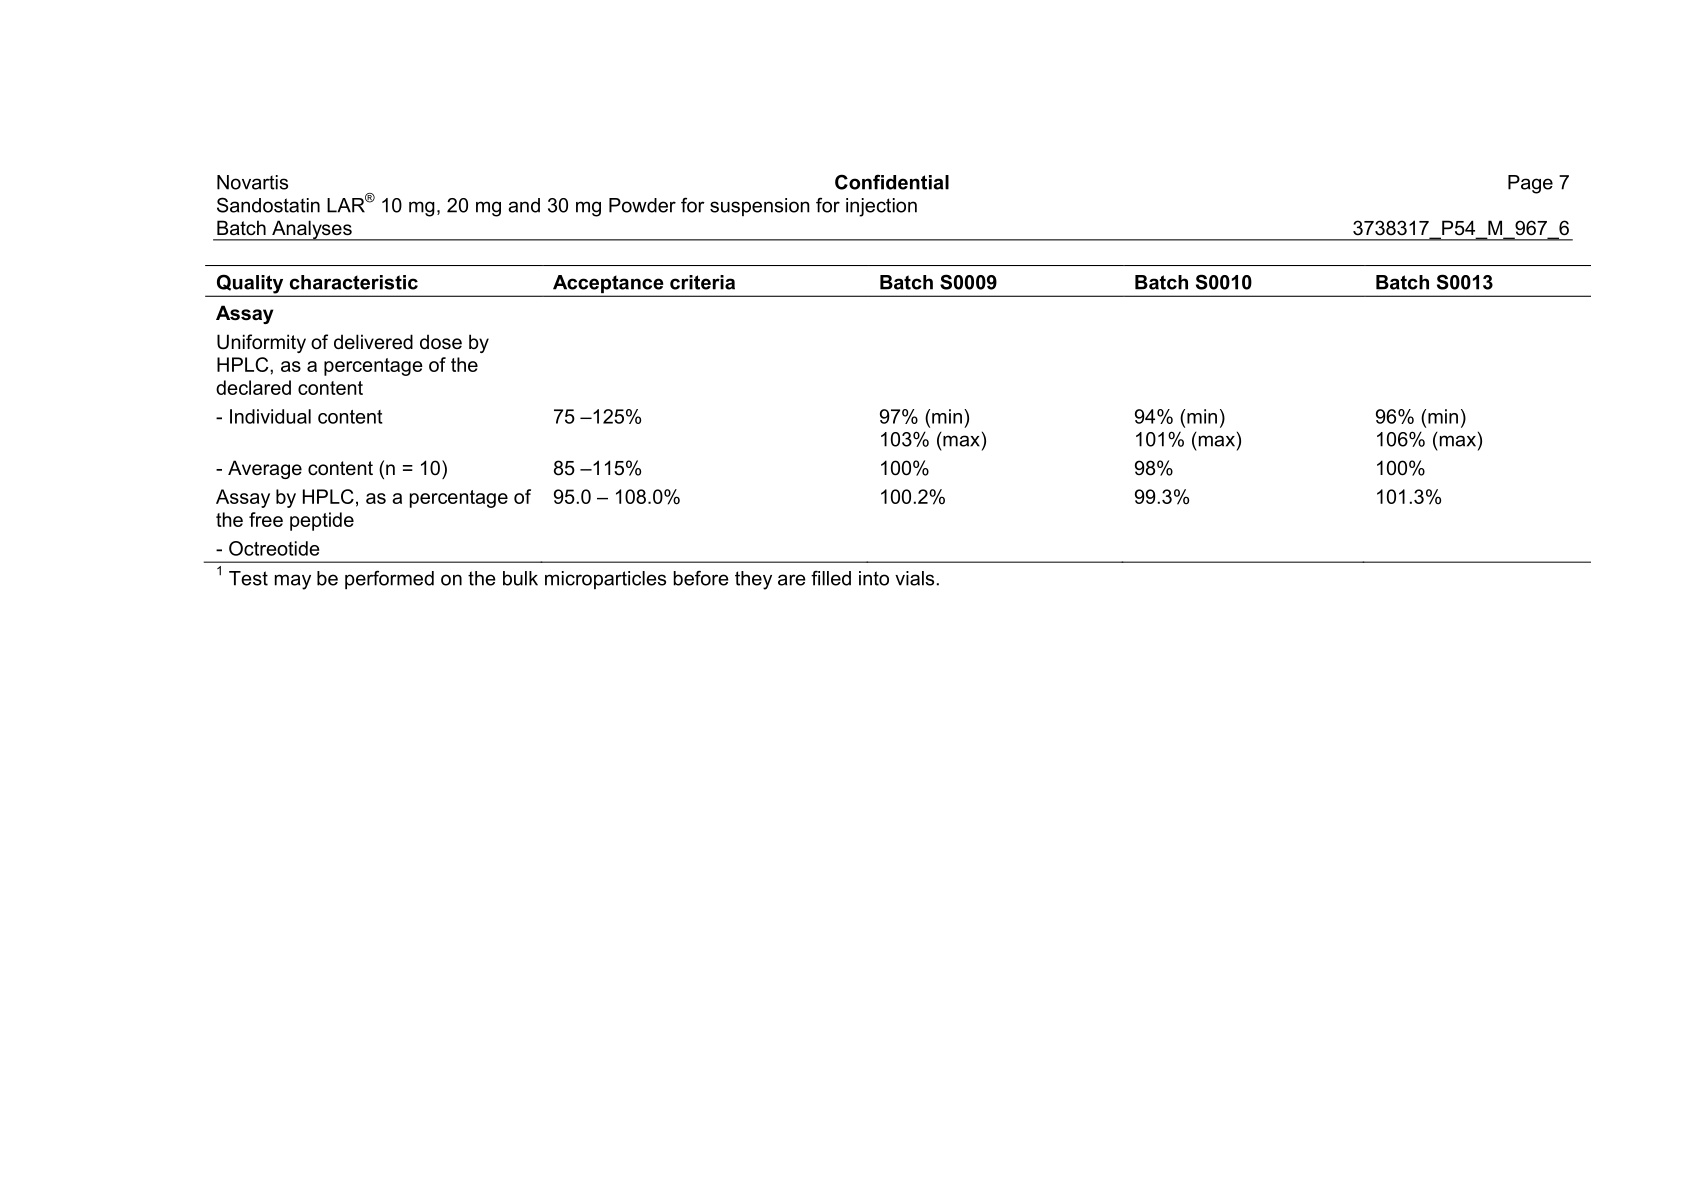partial_lined: (204, 263, 1593, 565)
